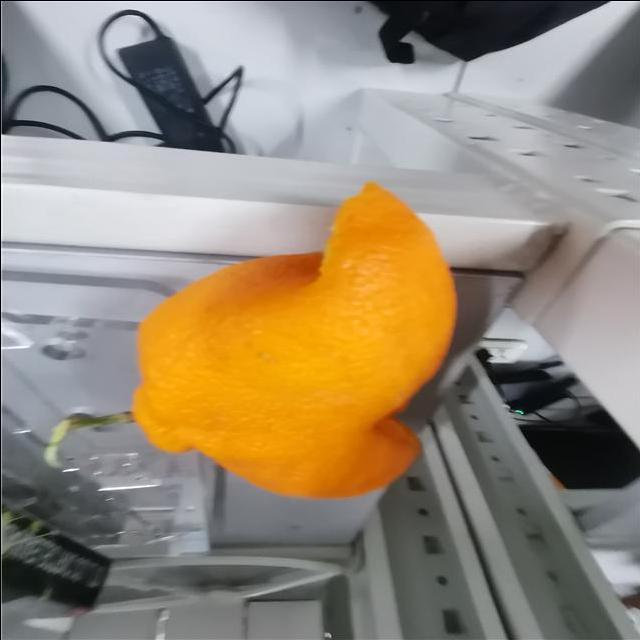orange peel: (115, 175, 471, 505)
